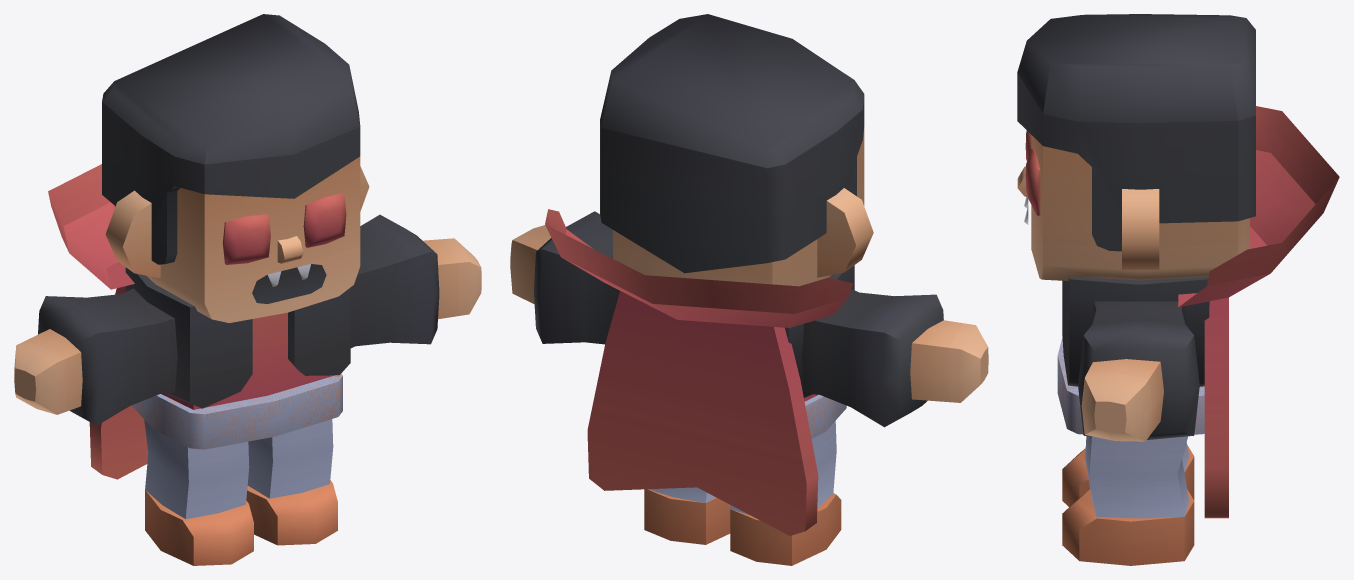
Rendered from vampire.glb.
3 renders of one model, left to right at view 1: azimuth 30°, elevation 25°; view 2: azimuth 150°, elevation 25°; view 3: azimuth 270°, elevation 25°, orthographic. The views are drawn at different scales.
Visible parts, largest first — view 1: head, torso, leg-right (×2), arm-right, arm-left; view 2: head, torso, arm-right, leg-right (×2), arm-left; view 3: head, torso, leg-right (×2), arm-left.
Boxes of the visible parts, x1,y1,x2,y2 form: head: (102,14,369,322); torso: (48,164,350,479); leg-right (×2): (144,419,337,565); arm-right: (14,288,177,425); arm-left: (350,214,481,348); head: (600,14,873,286); torso: (545,209,854,535); arm-right: (802,289,988,427); leg-right (×2): (644,421,841,565); arm-left: (510,211,619,344); head: (1017,14,1255,280); torso: (1057,106,1339,518); leg-right (×2): (1062,436,1194,565); arm-left: (1078,301,1199,441).
Bounding box in the file's own units: 0.8114 × 0.7805 × 0.4546.
Materials: 1 (1 with a texture image).
